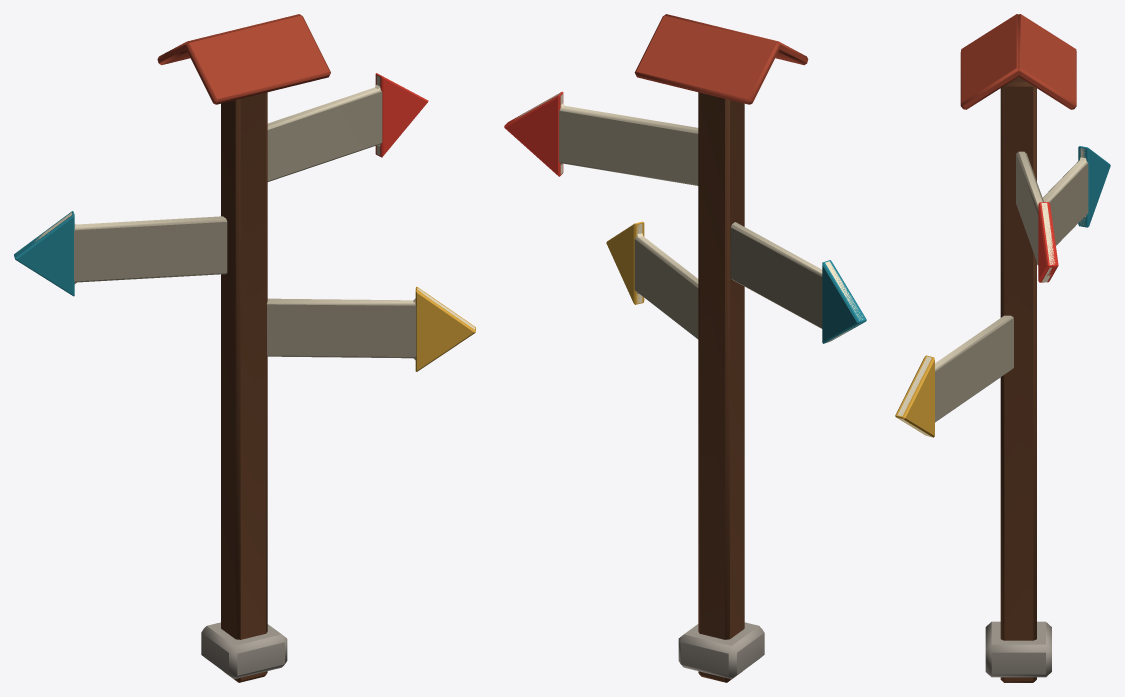
The model's file is signpost.glb.
The picture shows the model from 3 angles, left to right: view 1: azimuth 30°, elevation 25°; view 2: azimuth 150°, elevation 25°; view 3: azimuth 270°, elevation 25°; orthographic projection.
Visible parts, largest first — view 1: Signpost Dark wood, Signpost Cream paint, Signpost Roof, Signpost Stone, Signpost Teal paint, Signpost Mustard paint, Signpost Red paint; view 2: Signpost Dark wood, Signpost Cream paint, Signpost Roof, Signpost Stone, Signpost Red paint, Signpost Teal paint, Signpost Mustard paint; view 3: Signpost Dark wood, Signpost Cream paint, Signpost Roof, Signpost Stone, Signpost Mustard paint, Signpost Teal paint, Signpost Red paint.
Boxes of the visible parts, bbox=[...] form: Signpost Dark wood: bbox=[221, 92, 267, 682]; Signpost Cream paint: bbox=[34, 75, 474, 359]; Signpost Roof: bbox=[157, 14, 330, 104]; Signpost Stone: bbox=[201, 622, 287, 679]; Signpost Teal paint: bbox=[14, 211, 74, 296]; Signpost Mustard paint: bbox=[415, 287, 475, 371]; Signpost Red paint: bbox=[375, 73, 428, 157]; Signpost Dark wood: bbox=[698, 92, 744, 682]; Signpost Cream paint: bbox=[515, 93, 862, 342]; Signpost Roof: bbox=[634, 14, 808, 104]; Signpost Stone: bbox=[678, 622, 764, 679]; Signpost Red paint: bbox=[504, 91, 563, 176]; Signpost Teal paint: bbox=[822, 260, 866, 343]; Signpost Mustard paint: bbox=[606, 221, 644, 304]; Signpost Dark wood: bbox=[1000, 77, 1036, 682]; Signpost Cream paint: bbox=[898, 148, 1088, 436]; Signpost Roof: bbox=[960, 14, 1076, 109]; Signpost Stone: bbox=[985, 621, 1051, 677]; Signpost Mustard paint: bbox=[895, 355, 934, 437]; Signpost Teal paint: bbox=[1078, 146, 1110, 227]; Signpost Red paint: bbox=[1038, 202, 1058, 282].
Bounding box in the file's own units: 1.45 × 2.33 × 0.7153.
